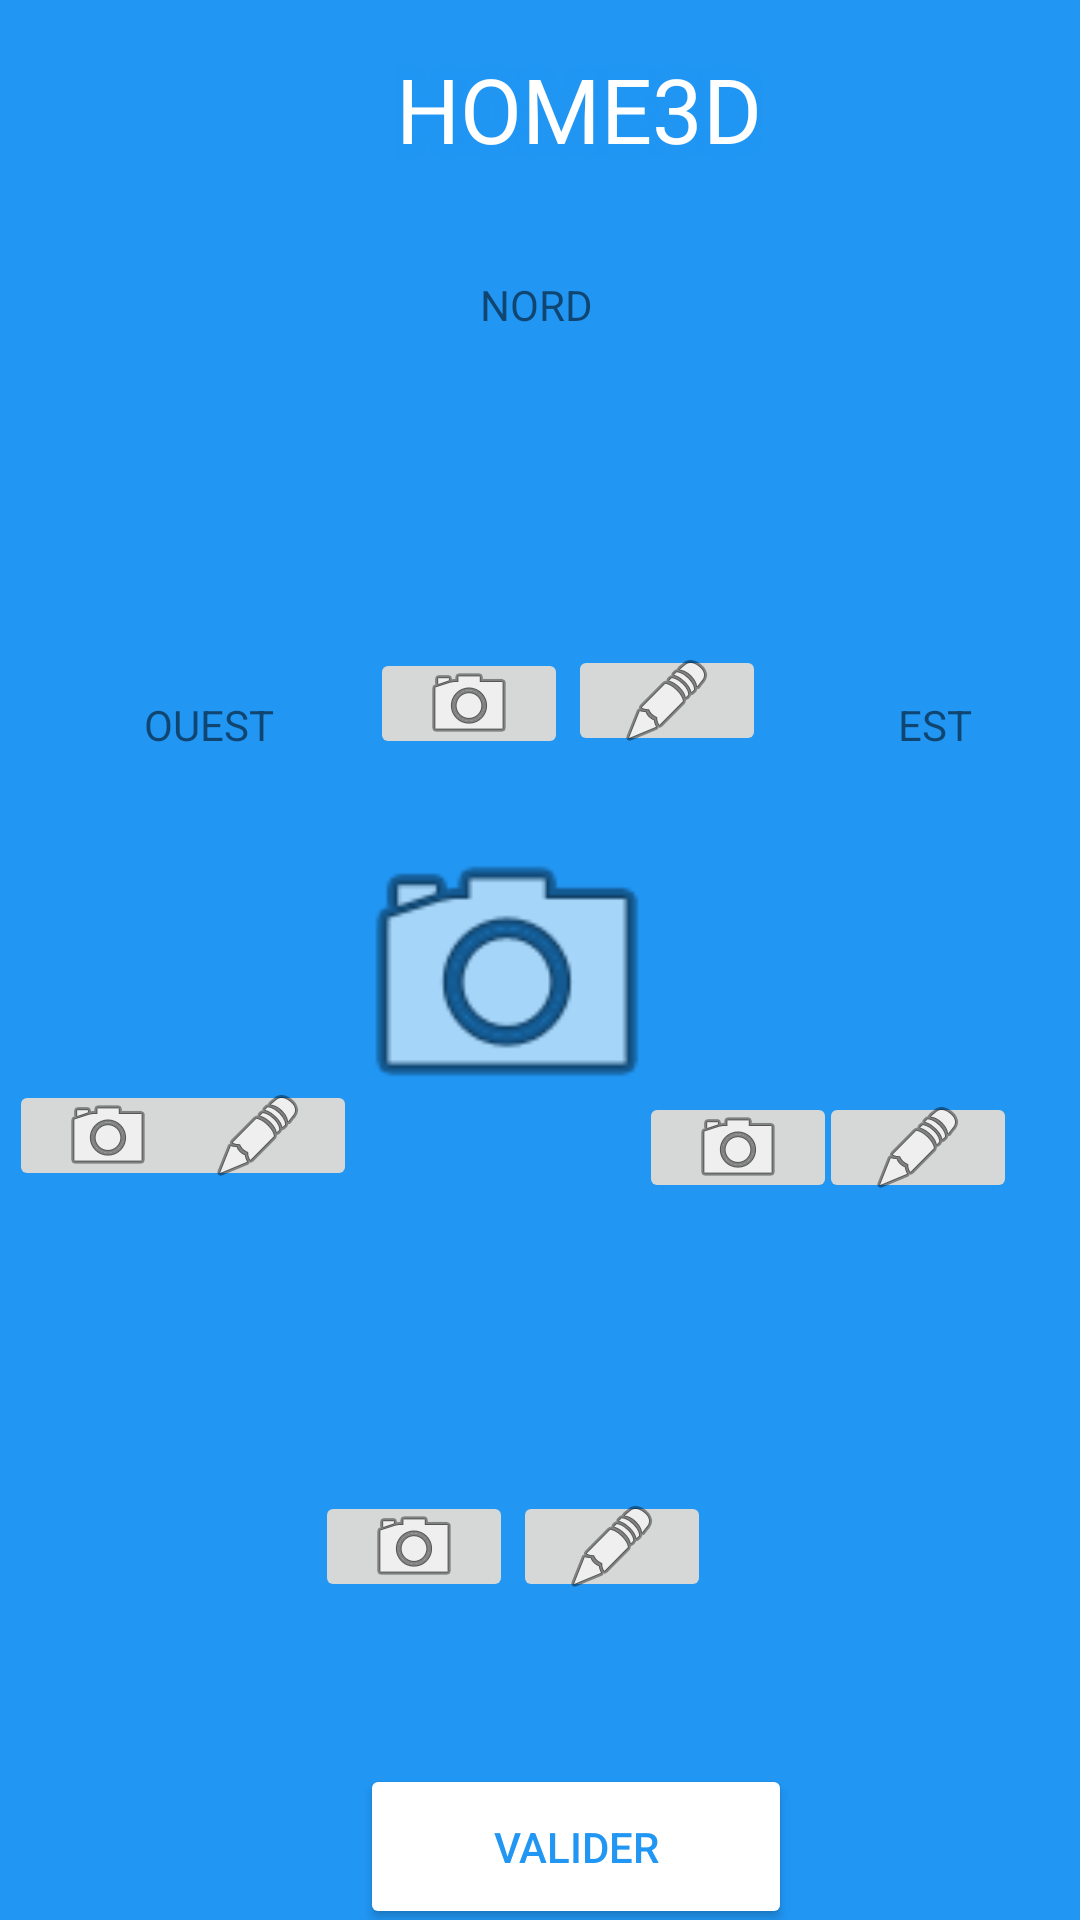

Icons on this 1080x1920 Android screen, each with its box as (x1, y1, x2, y2):
camera: (382, 666, 556, 741), (376, 867, 638, 1076), (21, 1098, 207, 1173), (651, 1110, 825, 1185), (327, 1509, 501, 1584)
edit: (580, 660, 754, 741), (159, 1095, 345, 1176), (831, 1107, 1005, 1188), (525, 1506, 699, 1587)
